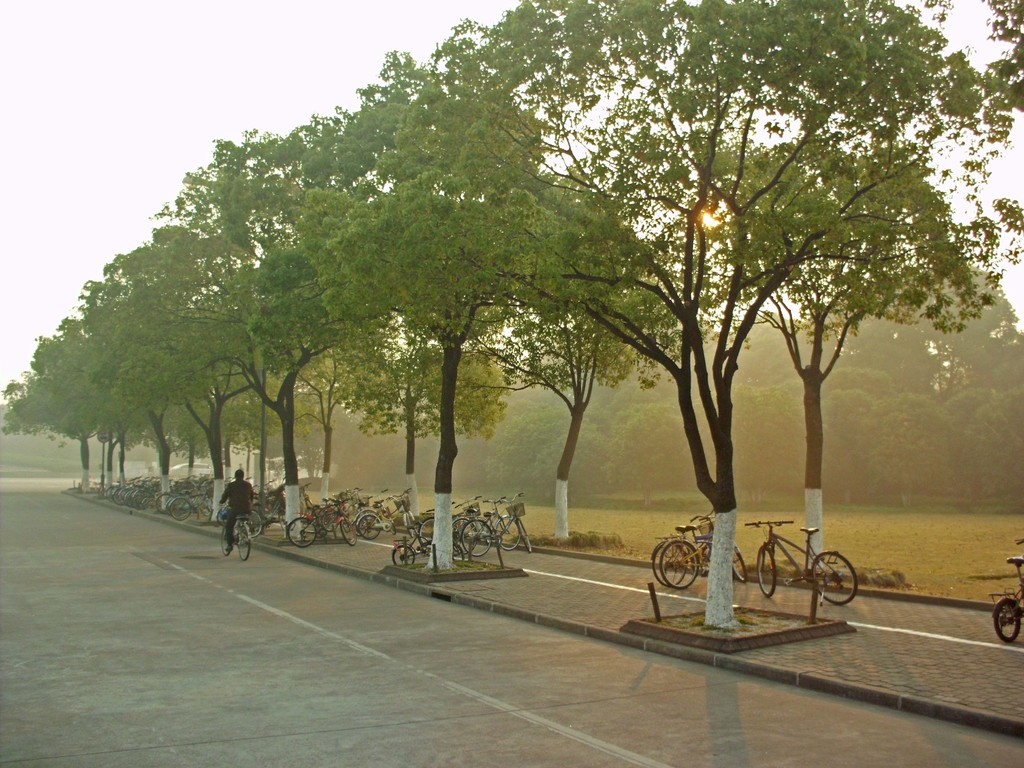Bicycle: (100, 471, 533, 566), (740, 519, 858, 604), (659, 513, 744, 591), (649, 509, 715, 587), (989, 538, 1023, 641)
